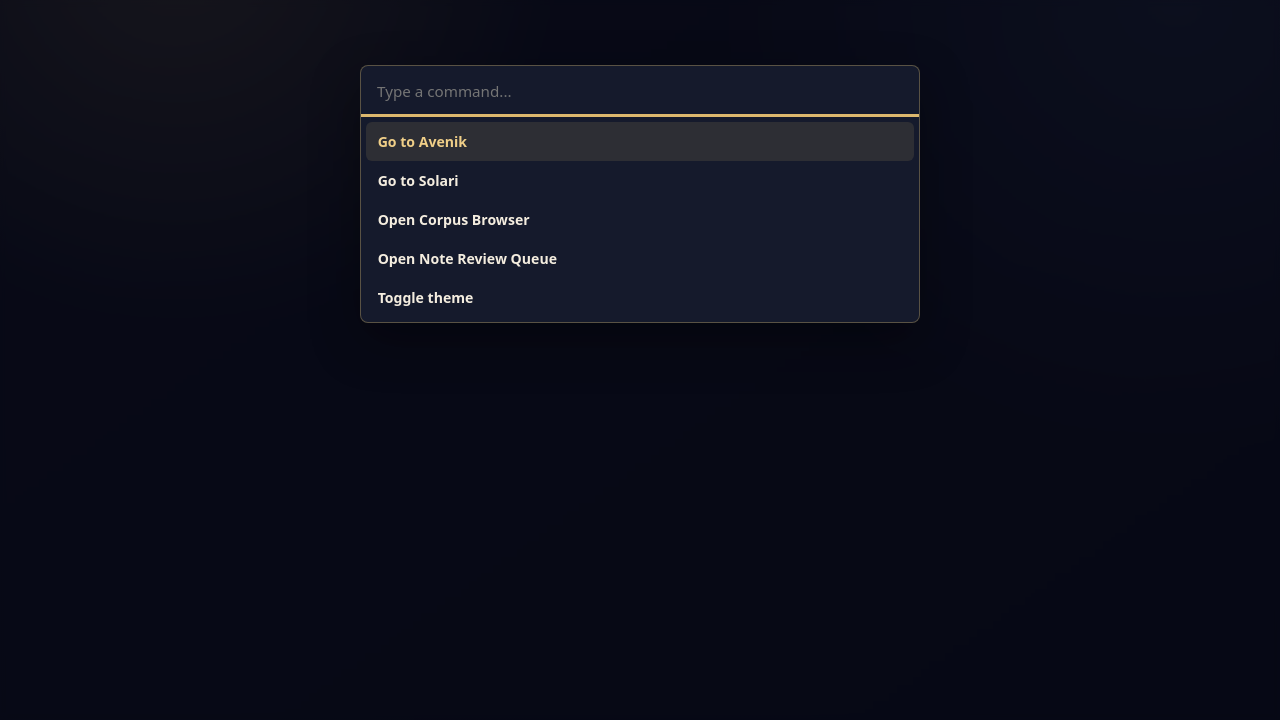
Test case: CommandPalette › shows an empty notice when nothing matches
The image size is (1280, 720).
Type "zzzzzz" into the dropdown named "Search commands".
click(640, 91); type("zzzzzz")  # box [361,66,919,117]
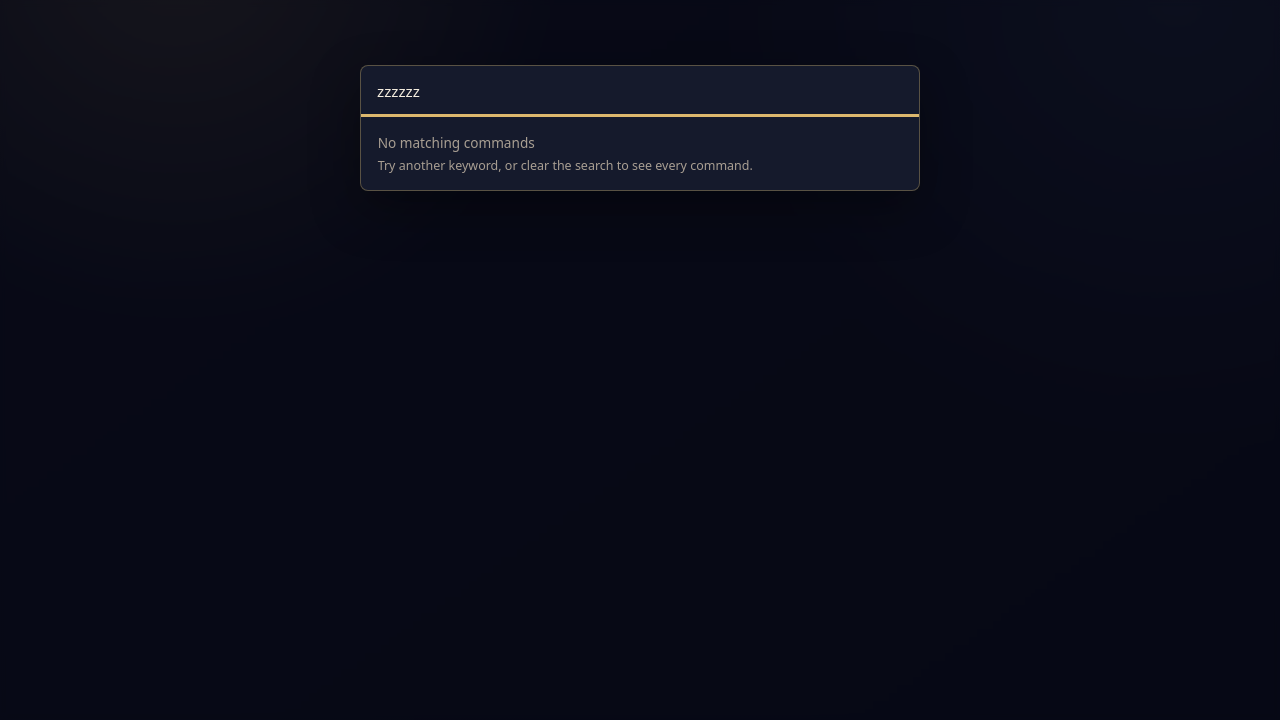
Expected: no options are shown
Expected: the message shows "No matching commands", [378,133,535,152]
Expected: the message shows "Try another keyword, or clear the search to see every command.", [378,157,753,174]
